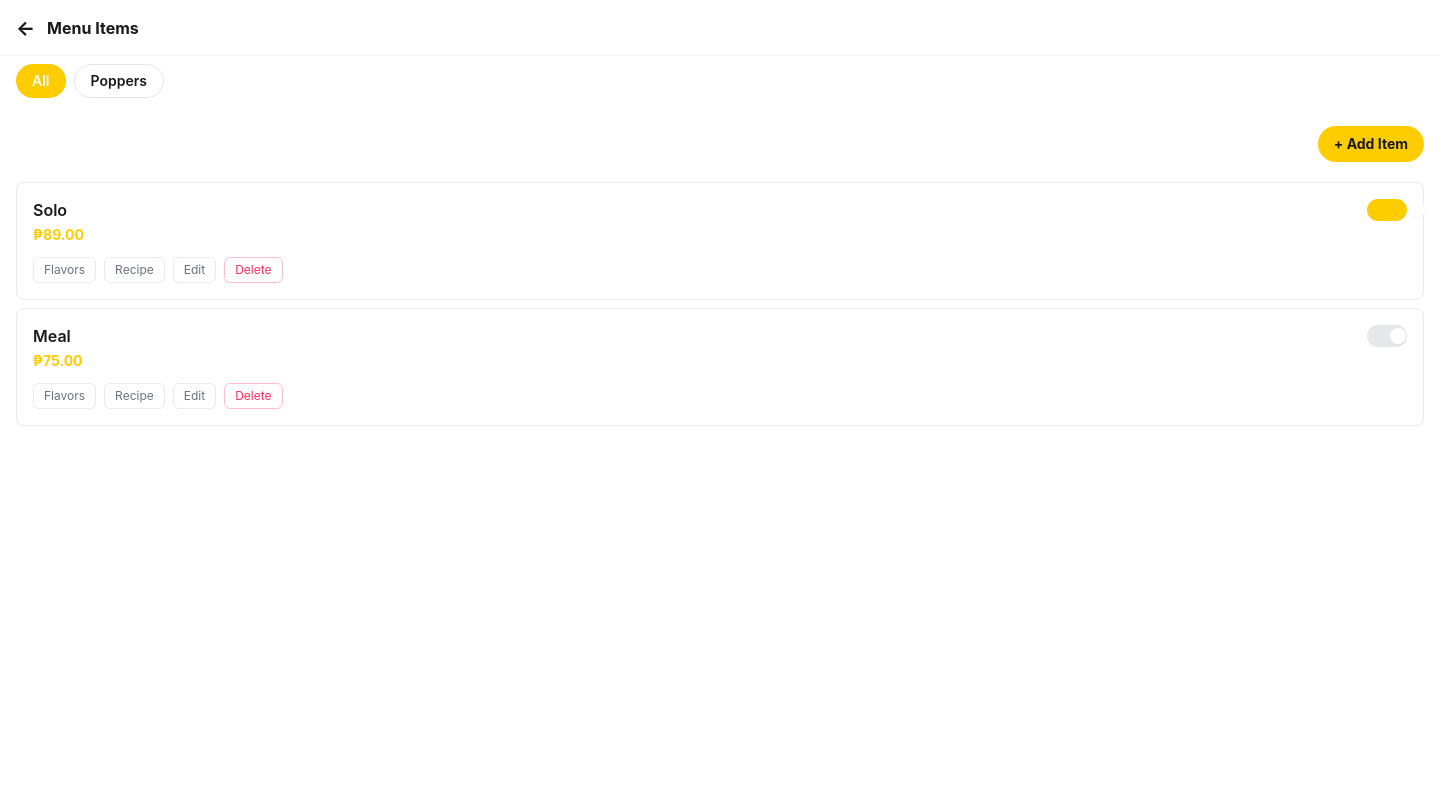
MenuItems › opens edit form pre-filled when Edit clicked
Expected: the text "Solo" is shown, [33,200,67,220]
Step 1. Click the button "Edit" below "Solo" → (194, 270), box [173,257,216,283]
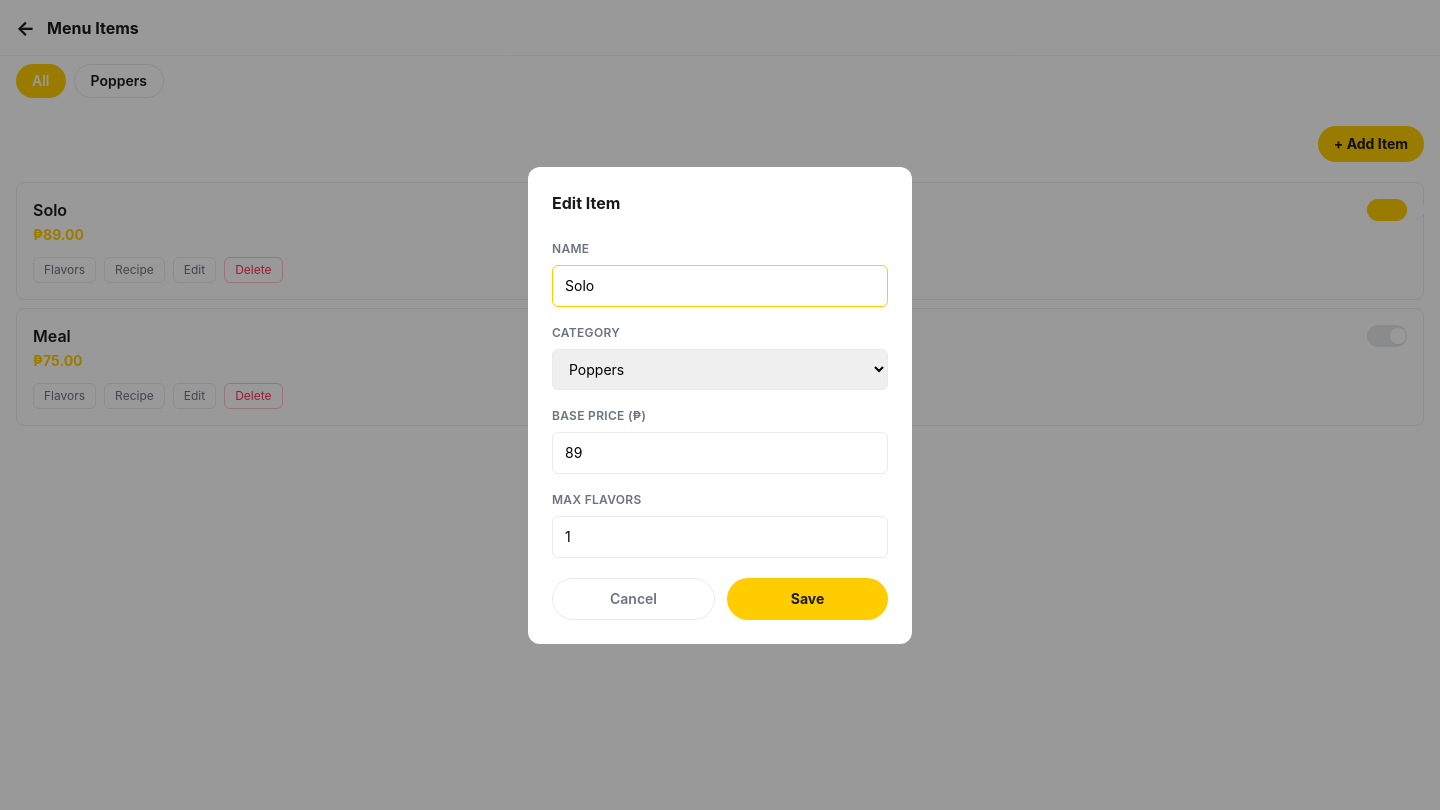
Expected: the heading "Edit Item" is shown, [552,192,620,212]
Expected: the field showing "Solo" is shown, [552,264,888,306]
Expected: the number field showing "89" is shown, [552,432,888,474]
